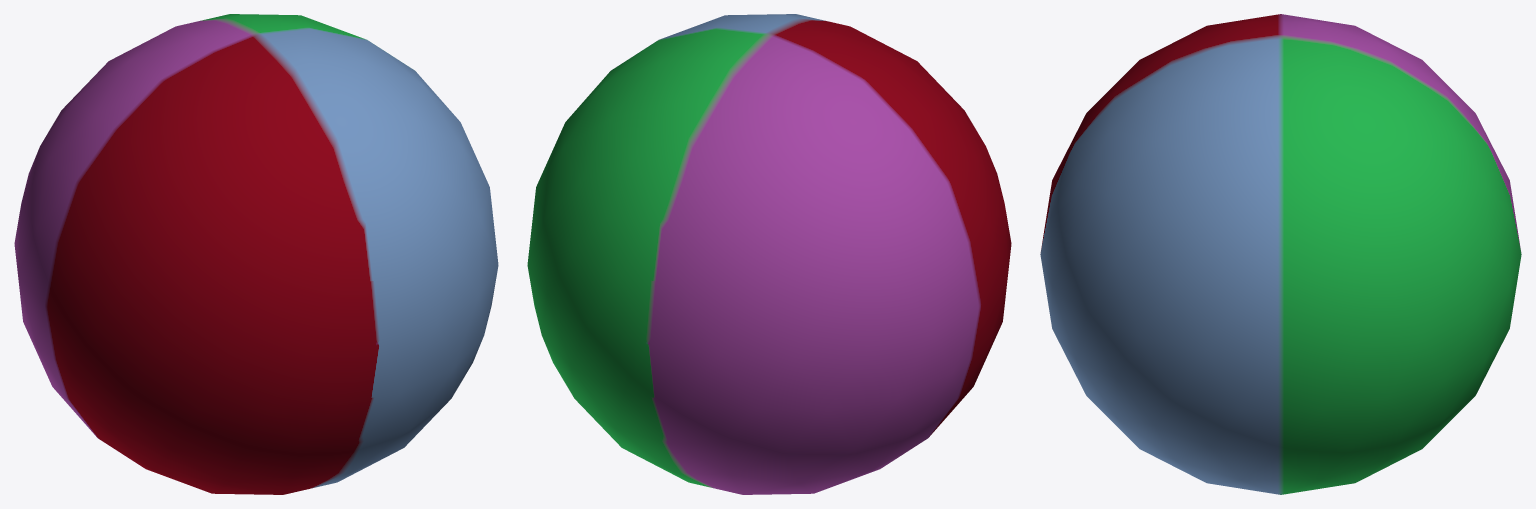
The model's file is player.gltf.
3 views of the same model, side by side, from view 1: azimuth 30°, elevation 25°; view 2: azimuth 150°, elevation 25°; view 3: azimuth 270°, elevation 25° (orthographic).
Visible parts, largest first — view 1: Icosphere; view 2: Icosphere; view 3: Icosphere.
Part boxes in pixels (x1,y1,x2,y2): Icosphere: (14,14,498,494); Icosphere: (527,14,1011,494); Icosphere: (1040,14,1521,494).
Size of the model in its own units: 2 by 2 by 2.
Materials: 1 (1 with a texture image).
